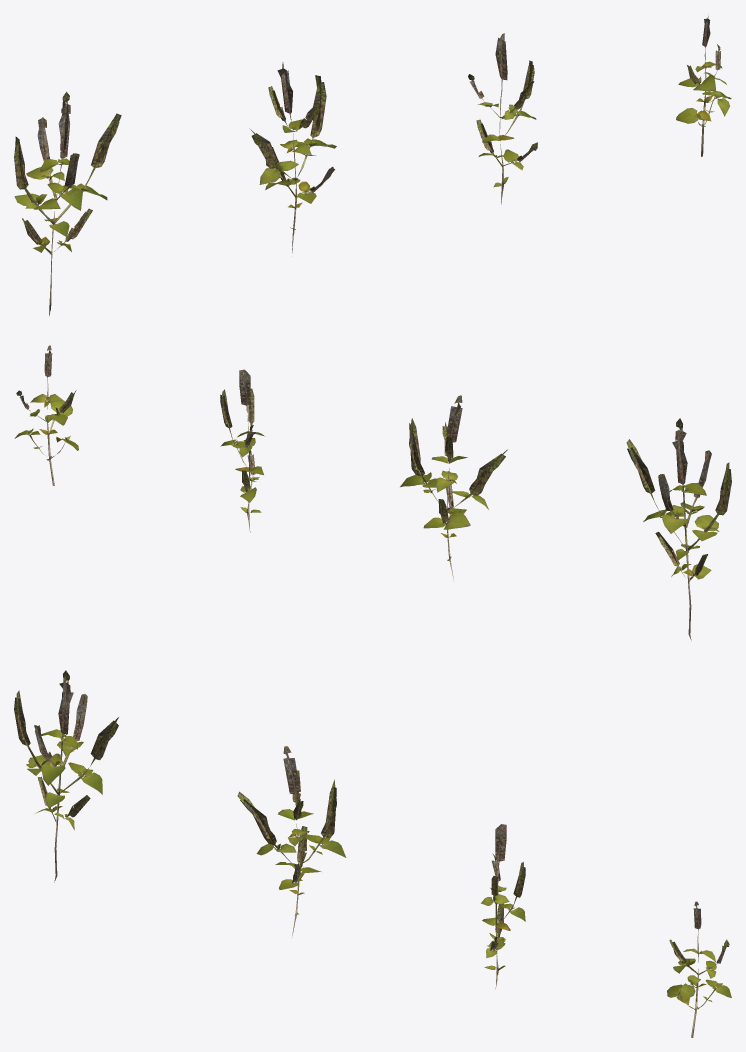
The model's file is shrub_03.glb.
3 views of the same model, one above another, from view 1: azimuth 30°, elevation 25°; view 2: azimuth 150°, elevation 25°; view 3: azimuth 330°, elevation 25° (orthographic). The views are drawn at different scales.
Parts seen in each view (by area): view 1: shrub_03_a, shrub_03_b, shrub_03_c, shrub_03_d; view 2: shrub_03_a, shrub_03_b, shrub_03_c, shrub_03_d; view 3: shrub_03_a, shrub_03_b, shrub_03_c, shrub_03_d.
Part boxes in pixels (x1,y1,x2,y2): shrub_03_a: [14, 91, 121, 315]; shrub_03_b: [249, 62, 336, 252]; shrub_03_c: [468, 33, 537, 204]; shrub_03_d: [676, 16, 731, 156]; shrub_03_a: [626, 418, 731, 640]; shrub_03_b: [400, 395, 507, 580]; shrub_03_c: [220, 369, 264, 532]; shrub_03_d: [14, 345, 78, 485]; shrub_03_a: [14, 670, 118, 882]; shrub_03_b: [237, 746, 346, 937]; shrub_03_c: [481, 824, 525, 988]; shrub_03_d: [667, 901, 731, 1037].
Bounding box in the file's own units: 1.37 × 0.4028 × 0.1512.
Materials: 1 (1 with a texture image).
